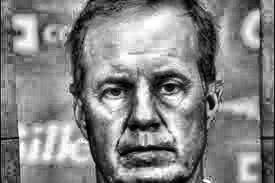Angry: (72, 1, 226, 183)
